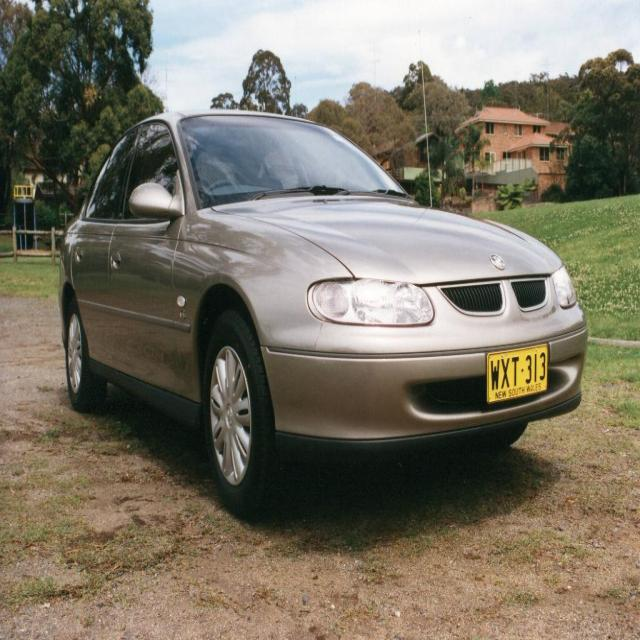car: (54, 110, 587, 500)
